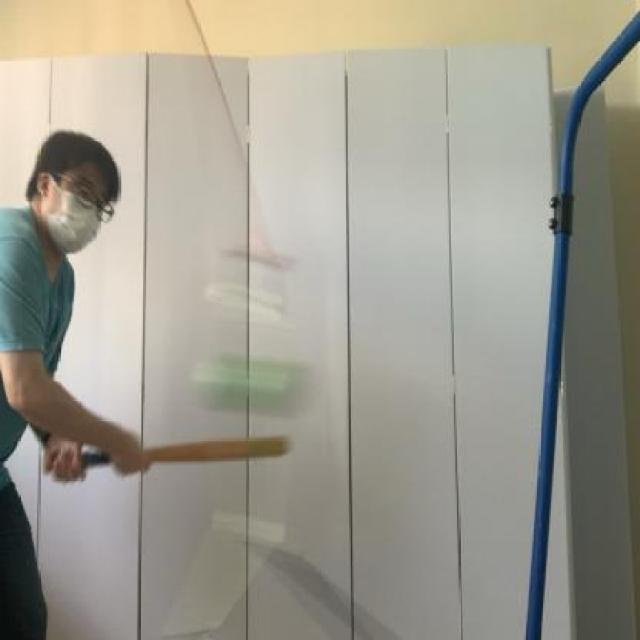baseball: (181, 352, 345, 437)
